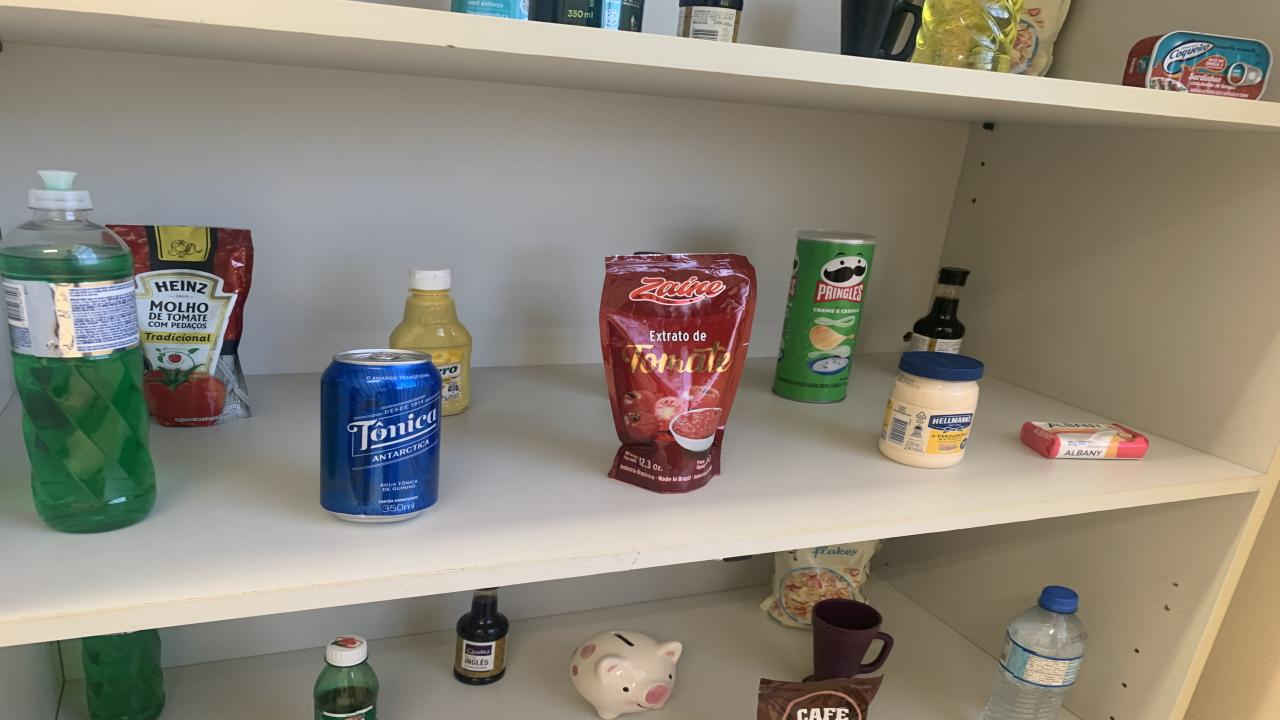Cleaner-Cleanup_Items: (450, 0, 528, 21)
Coffee-Pantry_Items: (758, 675, 882, 720)
Detergent-Cleanup_Items: (0, 171, 155, 532), (912, 0, 1025, 73), (82, 630, 165, 720)
English_Sauce-Pantry_Items: (452, 589, 510, 684), (908, 266, 970, 352), (678, 0, 742, 43)
Flakes-Snacks: (760, 540, 882, 628), (1008, 0, 1070, 77)
Guarana-Drinks: (312, 636, 380, 720)
Guarana_Can-Drinks: (530, 0, 645, 32)
Mayonnaise-Pantry_Items: (880, 351, 985, 469)
Mustard-Pantry_Items: (390, 268, 472, 414)
Pig_Safe-Miscellaneous: (570, 630, 682, 718)
Pringles-Snacks: (772, 231, 875, 403)
Soap-Cleanup_Items: (1020, 422, 1150, 459)
Tomato_Sauce-Pantry_Items: (600, 253, 755, 493), (108, 225, 252, 428)
Tonic-Drinks: (320, 349, 442, 521)
Tuna_Can-Pantry_Items: (1122, 30, 1272, 99)
Water_Bottle-Drinks: (980, 587, 1088, 720)
